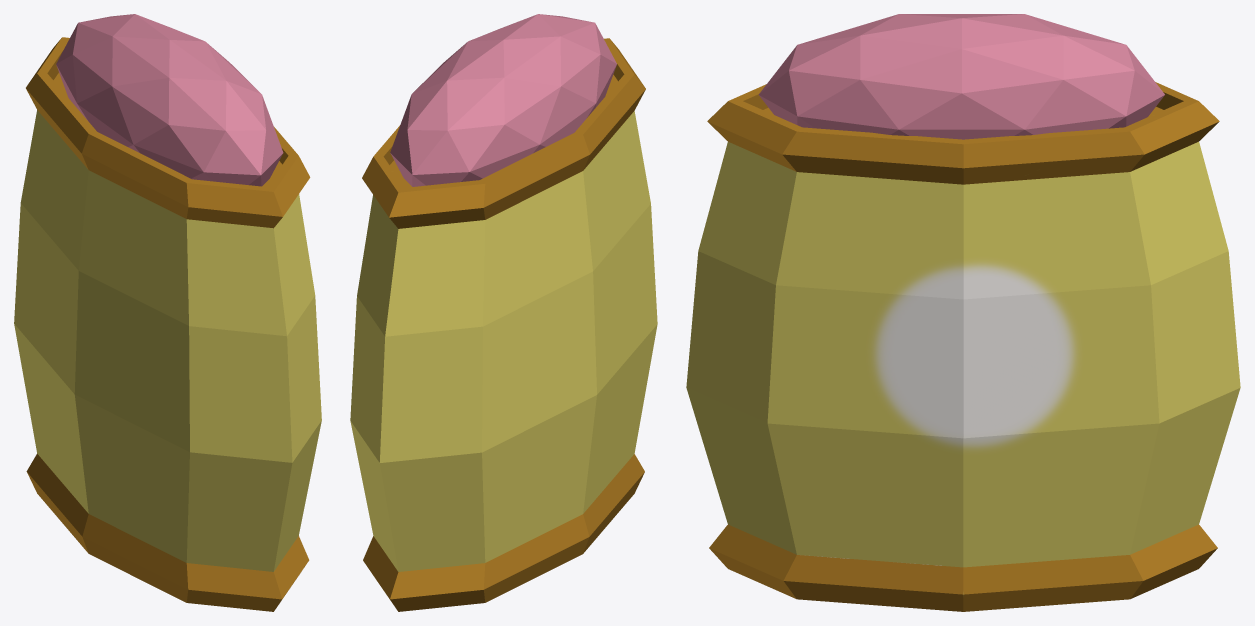
File: Semillas Cereza.fbx
3 renders of one model, left to right at view 1: azimuth 30°, elevation 25°; view 2: azimuth 150°, elevation 25°; view 3: azimuth 270°, elevation 25°, orthographic. The views are drawn at different scales.
Visible parts, largest first — view 1: Cylinder.003, Cylinder.002; view 2: Cylinder.003, Cylinder.002; view 3: Cylinder.003, Cylinder.002.
Part boxes in pixels (x1,y1,x2,y2): Cylinder.003: (14,37,321,611); Cylinder.002: (56,14,283,186); Cylinder.003: (350,38,657,611); Cylinder.002: (390,14,616,186); Cylinder.003: (686,82,1240,611); Cylinder.002: (758,14,1164,139).
Size of the model in its own units: 102 by 258 by 235.
